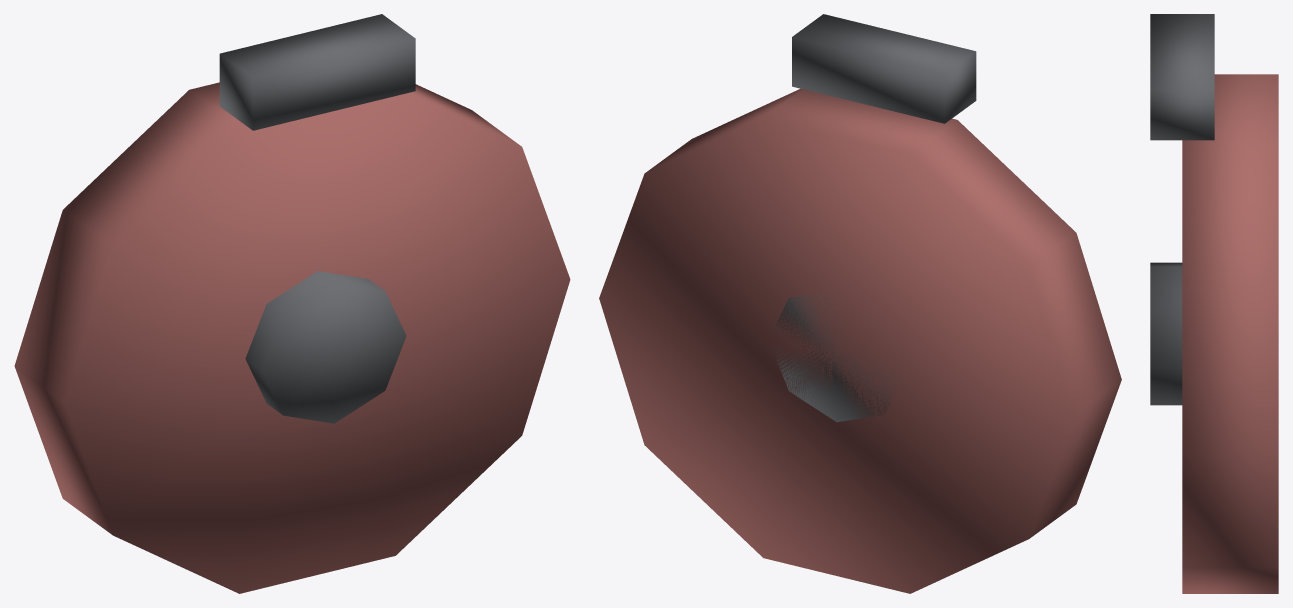
File: hose_reel_12.glb
3 views of the same model, side by side, from view 1: azimuth 30°, elevation 25°; view 2: azimuth 150°, elevation 25°; view 3: azimuth 270°, elevation 25° (orthographic). The views are drawn at different scales.
Visible parts, largest first — view 1: world; view 2: world; view 3: world.
Boxes of the visible parts, x1,y1,x2,y2 form: world: (14,14,570,593); world: (599,14,1121,593); world: (1150,14,1278,593).
Size of the model in its own units: 0.6272 by 0.6267 by 0.144.
